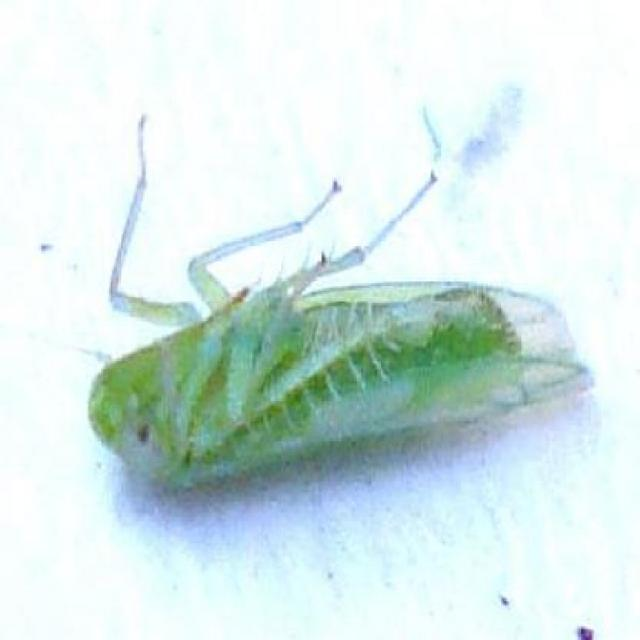green-leafhopper: (98, 263, 577, 463)
